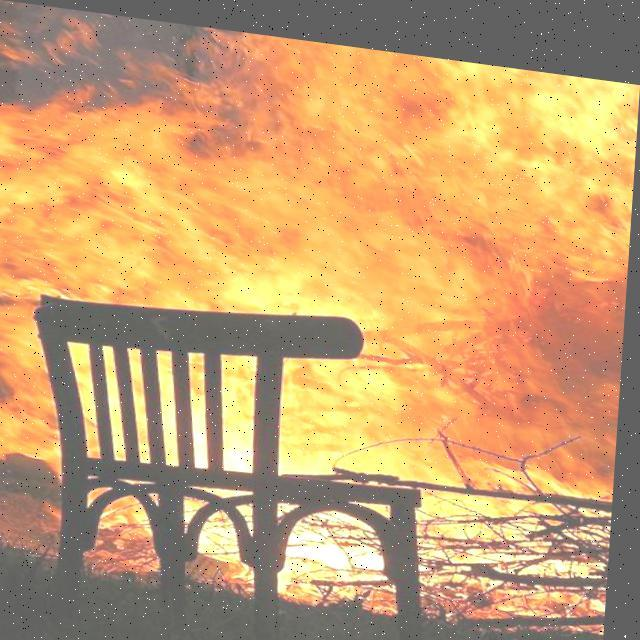Fire: (0, 10, 639, 635)
